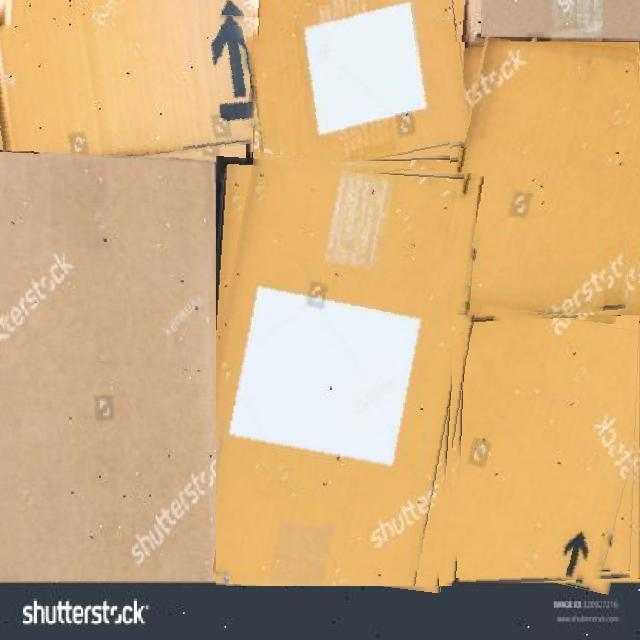BoxFace: (216, 156, 479, 586), (0, 150, 223, 581), (450, 42, 640, 324), (452, 315, 640, 586), (0, 0, 260, 164), (253, 0, 471, 171)
